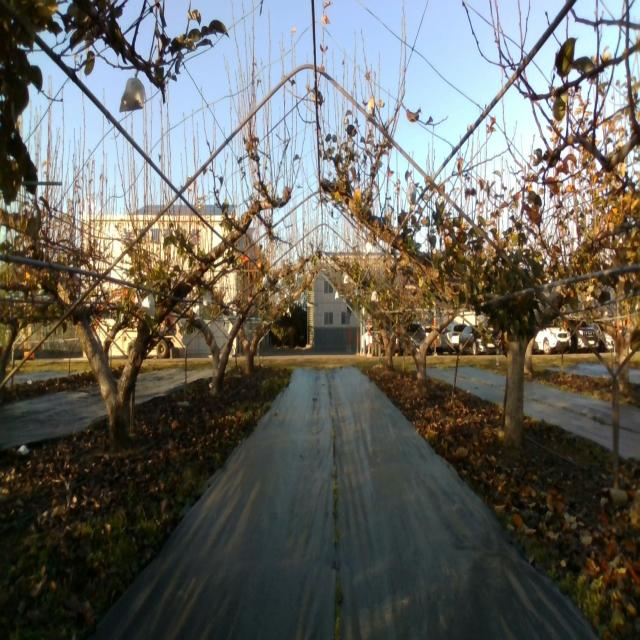pearbags: (118, 77, 145, 113), (140, 292, 156, 319), (406, 182, 416, 213)
